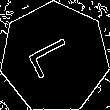L_NE: (26, 32, 83, 83)
